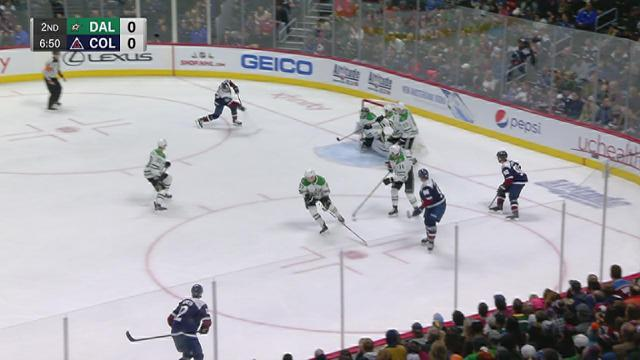geico: (238, 50, 316, 80)
